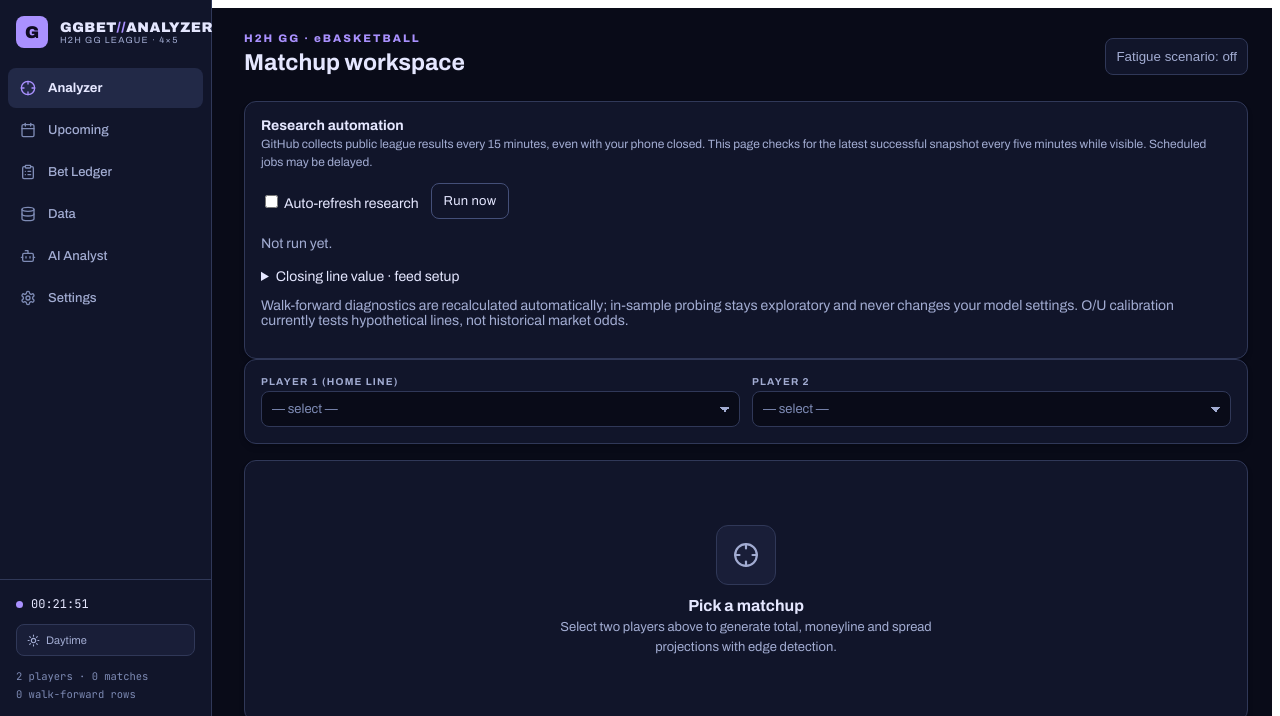
Test: app shell › restores persisted players from localStorage
Click the button "Data": (106,214) [8, 194, 203, 234]
(page scrolled)
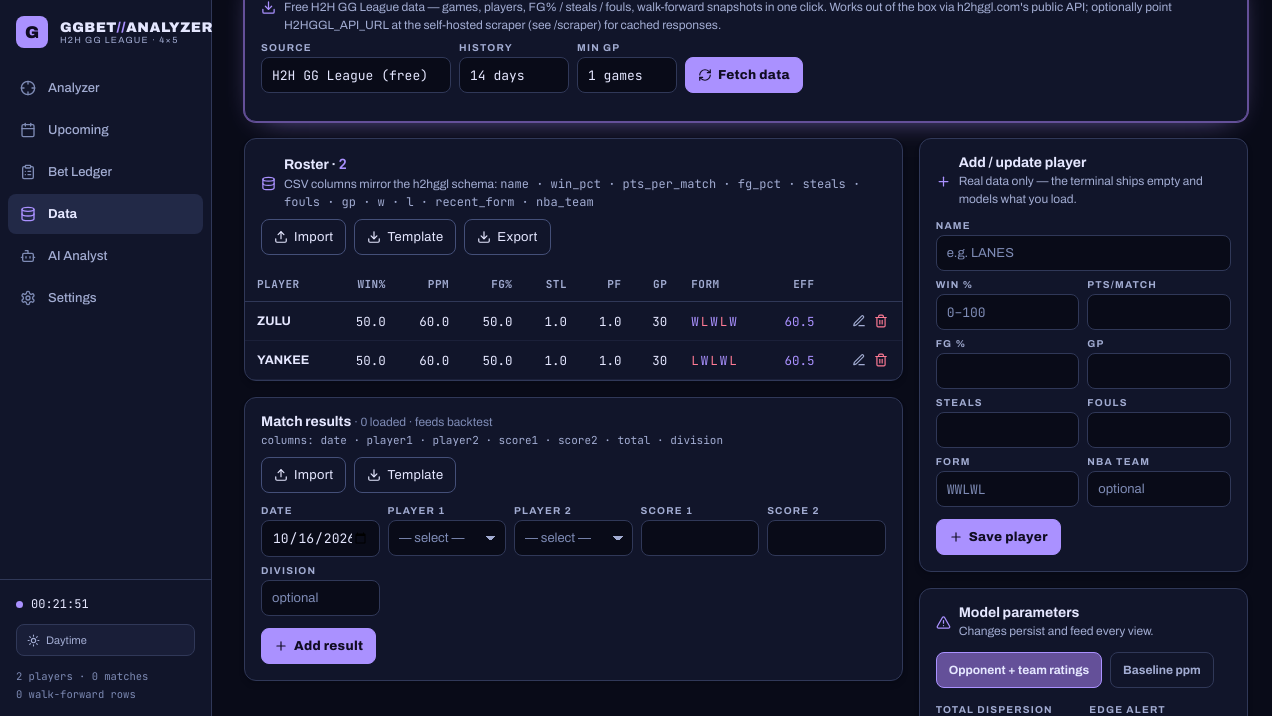
Now the text "ZULU" is shown, box [245, 302, 334, 341]
Now the text "YANKEE" is shown, box [245, 341, 334, 380]
